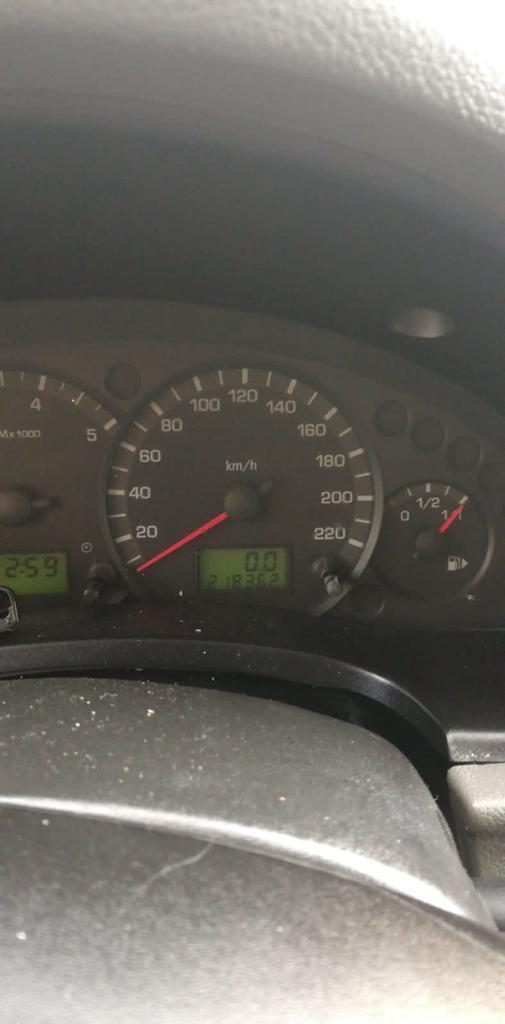,: (258, 567, 263, 572)
0: (244, 550, 258, 571), (263, 550, 275, 571)
1: (224, 574, 230, 589)
2: (206, 572, 219, 589), (269, 573, 280, 588)
3: (245, 573, 254, 588)
6: (256, 572, 267, 589)
8: (232, 573, 242, 588)
odometer: (192, 543, 295, 592)
